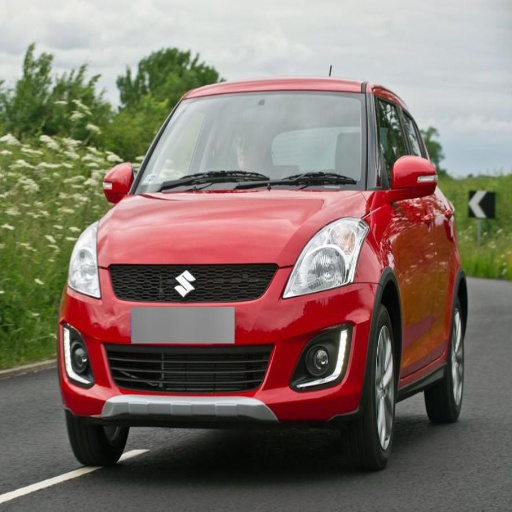front_bumper: (63, 263, 378, 413)
front_glass: (127, 91, 367, 193)
front_left_door: (375, 92, 433, 368)
front_right_light: (68, 230, 102, 298)
